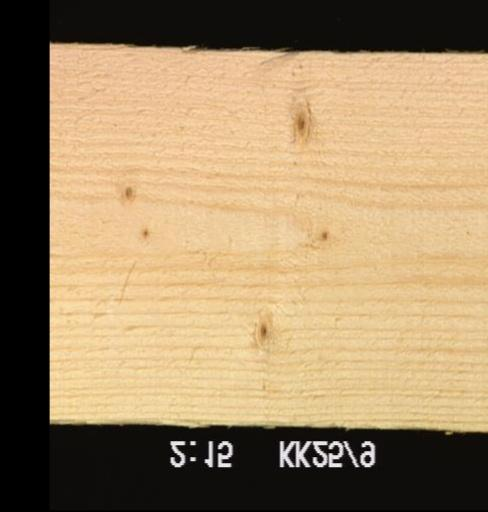small_knot: (248, 312, 275, 352), (117, 181, 141, 205), (312, 224, 333, 249), (134, 220, 154, 244)
sound_knot: (282, 96, 317, 146)
